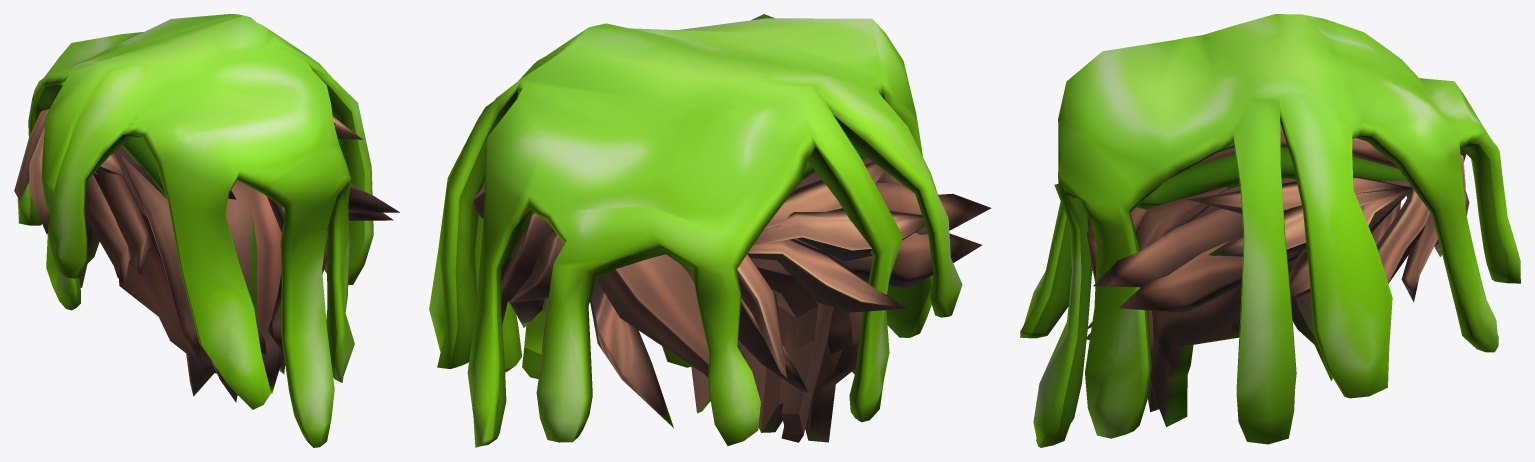
3 renders of one model, left to right at view 1: azimuth 30°, elevation 25°; view 2: azimuth 150°, elevation 25°; view 3: azimuth 270°, elevation 25°, orthographic. The views are drawn at different scales.
Visible parts, largest first — view 1: Mesh; view 2: Mesh; view 3: Mesh.
Boxes of the visible parts, bbox=[...] form: Mesh: bbox=[14, 14, 399, 447]; Mesh: bbox=[429, 14, 991, 447]; Mesh: bbox=[1020, 14, 1520, 447].
Size of the model in its own units: 1.91 by 1.85 by 2.22.
